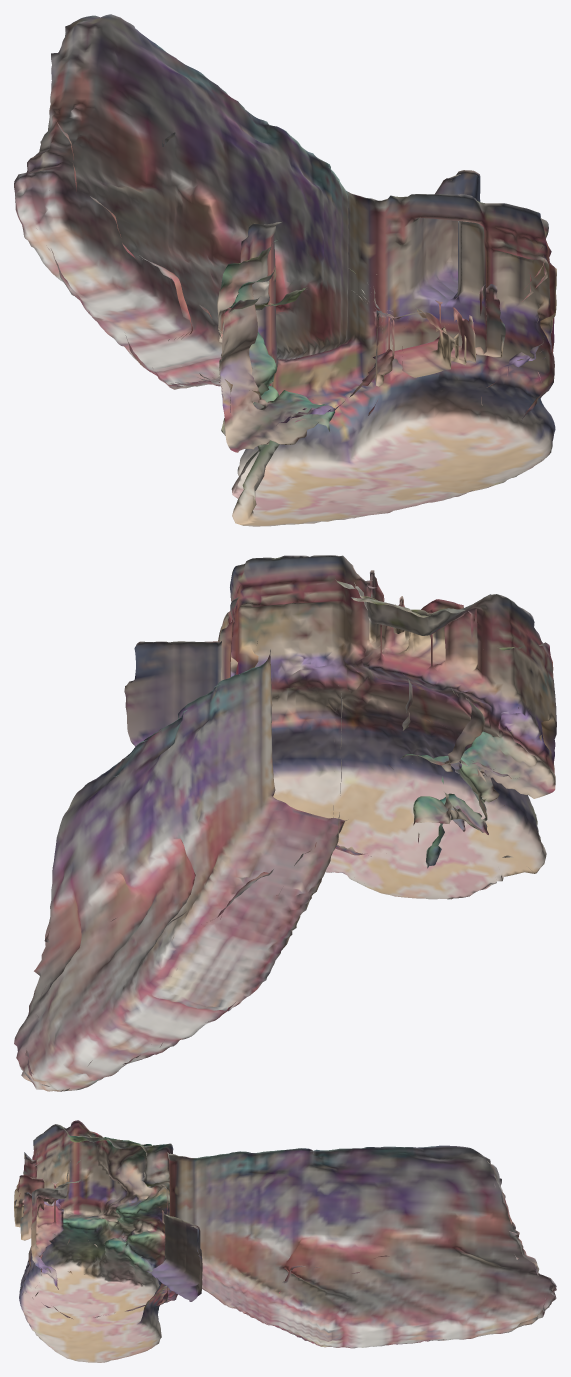
Rendered from collider.glb.
The picture shows the model from 3 angles, top to bottom: view 1: azimuth 30°, elevation 25°; view 2: azimuth 150°, elevation 25°; view 3: azimuth 270°, elevation 25°; orthographic projection. The views are drawn at different scales.
Visible parts, largest first — view 1: world; view 2: world; view 3: world.
Boxes of the visible parts, left/top/right/bottom form: world: left=14, top=14, right=556, bottom=526; world: left=14, top=555, right=556, bottom=1091; world: left=14, top=1120, right=556, bottom=1362.
Size of the model in its own units: 3.78 by 3.06 by 7.98.
